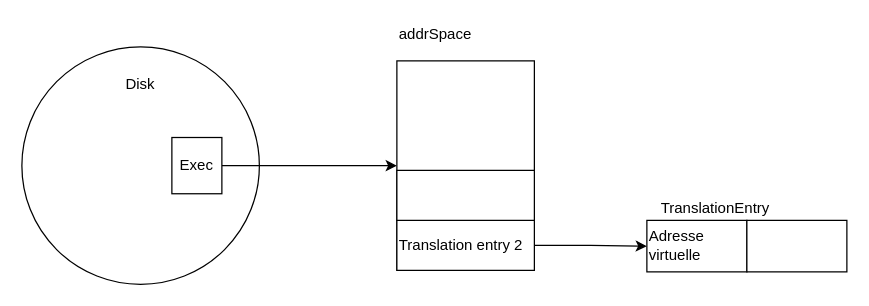
Some shapes in this 869 by 306 pixel diagram are drawn without their labels. The shapes that lost their labels are listed below. From the top down, each one's centre as x and y in pixels, then its label:
pixel 465 194: Translation entry 1
pixel 796 245: Adresse réelle
